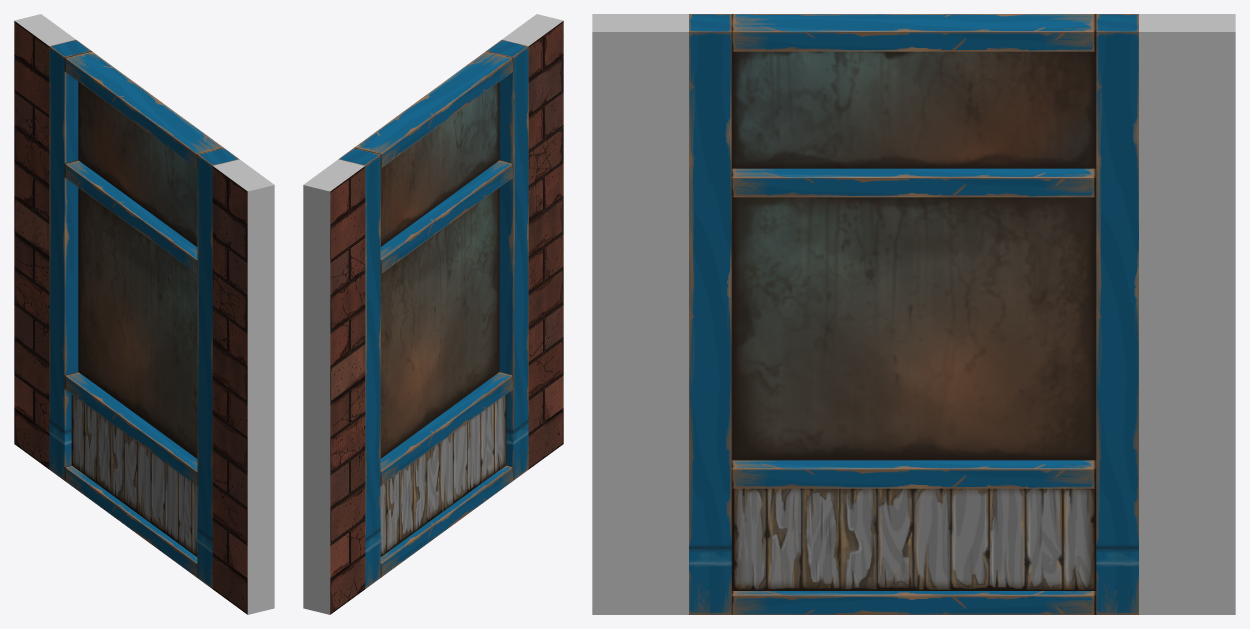
File: storeFront03_window.FBX
The picture shows the model from 3 angles, left to right: view 1: azimuth 30°, elevation 25°; view 2: azimuth 150°, elevation 25°; view 3: azimuth 270°, elevation 25°; orthographic projection. The views are drawn at different scales.
Visible parts, largest first — view 1: storeFront03_window, storeFront03_window_glass01, storeFront03_window_glass02; view 2: storeFront03_window, storeFront03_window_glass01, storeFront03_window_glass02; view 3: storeFront03_window, storeFront03_window_glass01, storeFront03_window_glass02.
Boxes of the visible parts, left/top/right/bottom form: storeFront03_window: left=14, top=14, right=274, bottom=614; storeFront03_window_glass01: left=78, top=188, right=197, bottom=458; storeFront03_window_glass02: left=78, top=82, right=197, bottom=246; storeFront03_window: left=303, top=14, right=563, bottom=614; storeFront03_window_glass01: left=380, top=188, right=499, bottom=458; storeFront03_window_glass02: left=380, top=82, right=499, bottom=246; storeFront03_window: left=592, top=14, right=1235, bottom=614; storeFront03_window_glass01: left=731, top=197, right=1096, bottom=460; storeFront03_window_glass02: left=731, top=51, right=1096, bottom=168.
Size of the model in its own units: 20 by 300 by 300.
